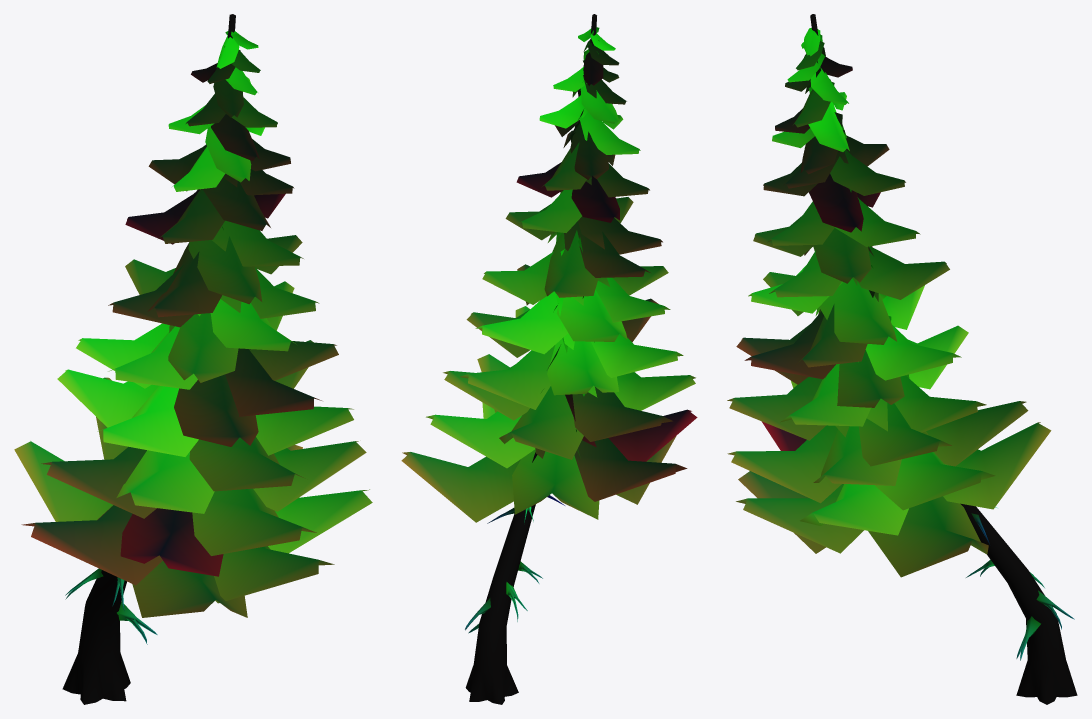
Rendered from M_Pine_6_13.fbx.
3 renders of one model, left to right at view 1: azimuth 30°, elevation 25°; view 2: azimuth 150°, elevation 25°; view 3: azimuth 270°, elevation 25°, orthographic. The views are drawn at different scales.
Parts seen in each view (by area): view 1: Tree_13; view 2: Tree_13; view 3: Tree_13.
Part boxes in pixels (x1=…): Tree_13: x1=14, y1=14, x2=372, y2=704; Tree_13: x1=401, y1=14, x2=697, y2=704; Tree_13: x1=727, y1=14, x2=1077, y2=704.
Size of the model in its own units: 1054 by 2442 by 1147.
